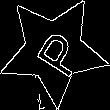P_NW: (23, 22, 84, 80)
